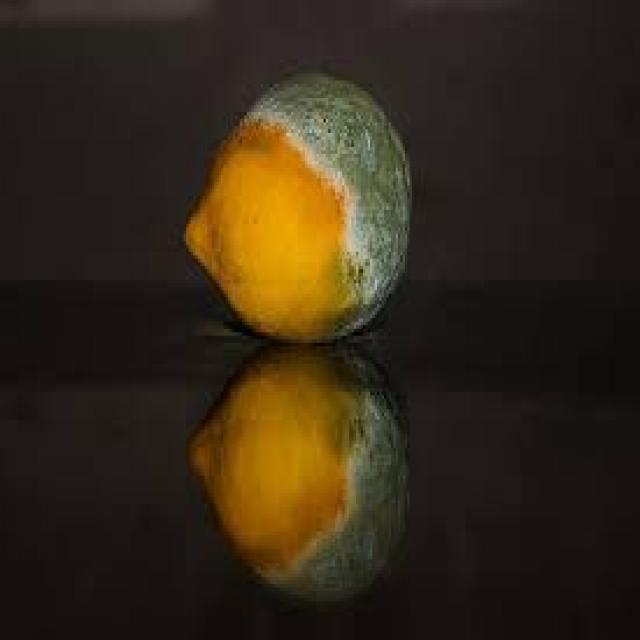organic waste: (179, 63, 412, 346), (184, 336, 409, 608)
